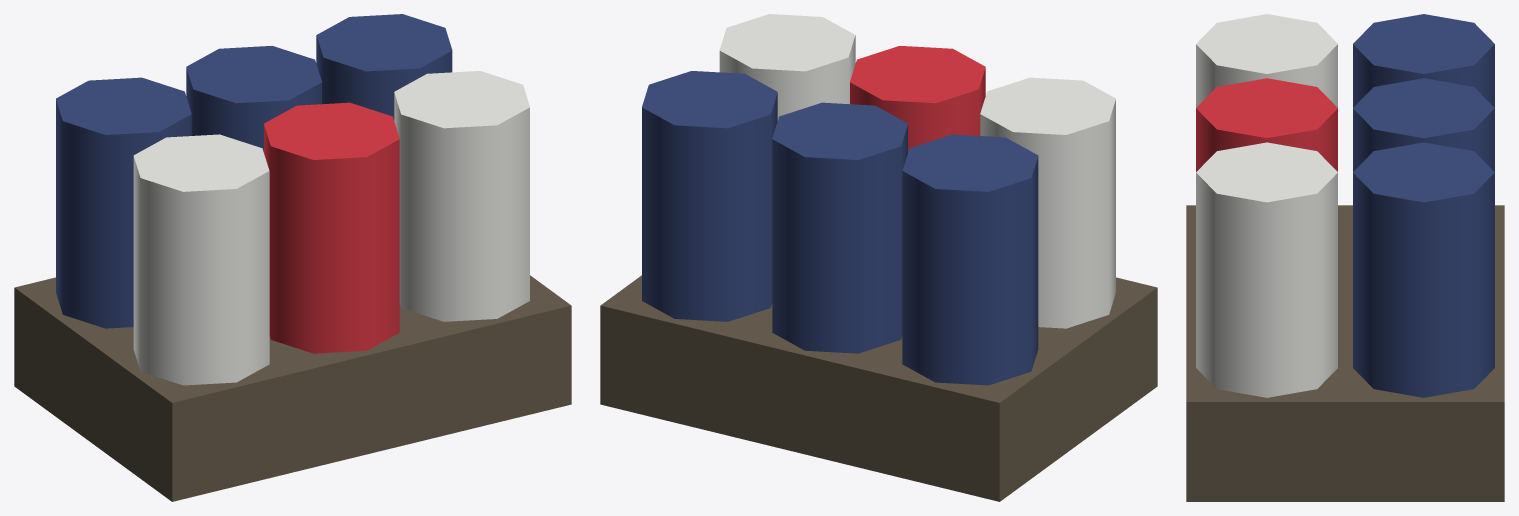
File: site_clutter2.fbx
3 renders of one model, left to right at view 1: azimuth 30°, elevation 25°; view 2: azimuth 150°, elevation 25°; view 3: azimuth 270°, elevation 25°, orthographic.
Parts seen in each view (by area): view 1: a1089/0/site_clutter2; view 2: a1089/0/site_clutter2; view 3: a1089/0/site_clutter2.
Boxes of the visible parts, x1=… form: a1089/0/site_clutter2: x1=14, y1=14, x2=571, y2=501; a1089/0/site_clutter2: x1=600, y1=14, x2=1157, y2=501; a1089/0/site_clutter2: x1=1186, y1=14, x2=1504, y2=501.
Bounding box in the file's own units: 1.9 × 1.33 × 1.3.
